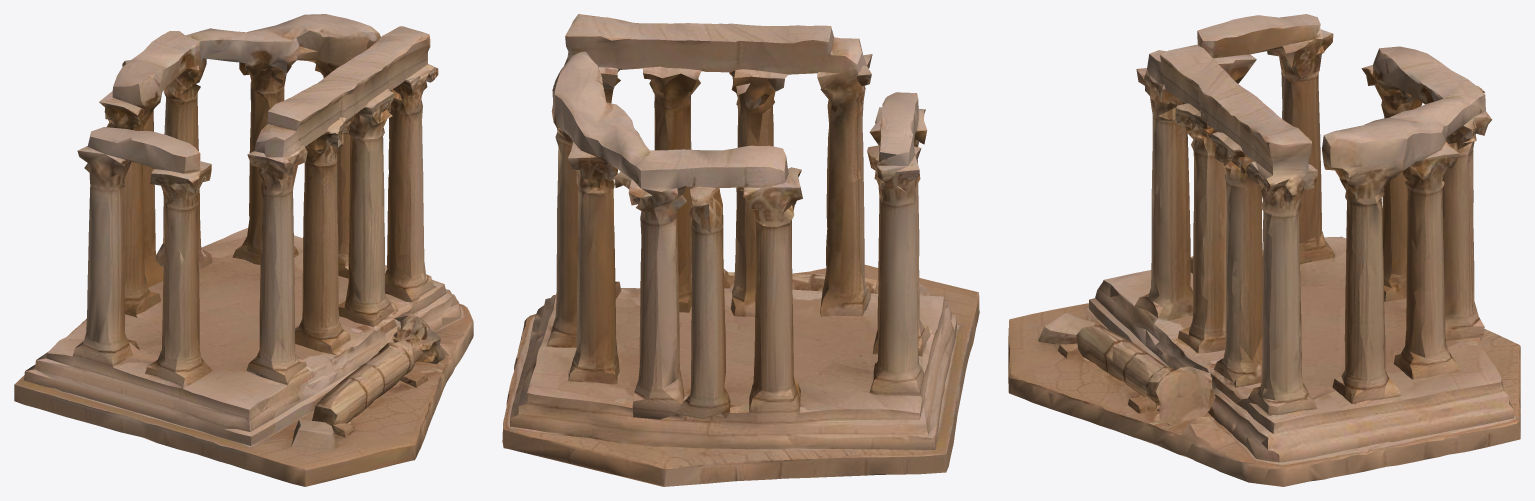
Rendered from temple-olympian-zeus-athens.glb.
3 views of the same model, side by side, from view 1: azimuth 30°, elevation 25°; view 2: azimuth 150°, elevation 25°; view 3: azimuth 270°, elevation 25° (orthographic). The views are drawn at different scales.
Parts seen in each view (by area): view 1: logan-textured.obj; view 2: logan-textured.obj; view 3: logan-textured.obj.
Boxes of the visible parts, x1=… form: logan-textured.obj: x1=14, y1=14, x2=473, y2=486; logan-textured.obj: x1=502, y1=14, x2=979, y2=486; logan-textured.obj: x1=1008, y1=14, x2=1520, y2=486.
Bounding box in the file's own units: 1 × 0.6909 × 0.9926.
1 material, 1 textured.
